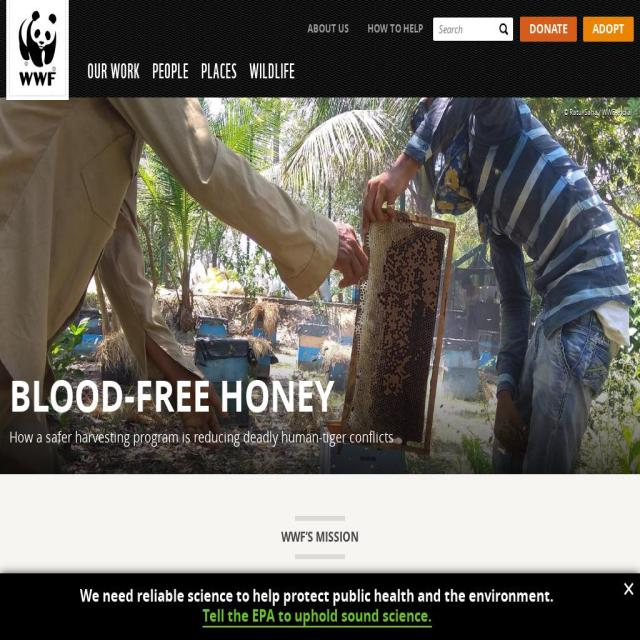button: (0, 97, 640, 475), (6, 586, 628, 627), (82, 55, 146, 87), (358, 16, 433, 42), (243, 55, 301, 87), (146, 55, 195, 87), (298, 16, 358, 42), (195, 55, 243, 87), (520, 16, 577, 42), (583, 16, 634, 42), (494, 16, 514, 43), (620, 575, 638, 603)
field: (432, 16, 514, 42)
heading: (9, 376, 630, 420), (9, 428, 630, 448), (6, 0, 69, 48)
image: (0, 97, 640, 475)
link: (80, 586, 554, 606)
text: (41, 516, 599, 560), (41, 596, 598, 640), (202, 606, 432, 627), (564, 106, 630, 118)
